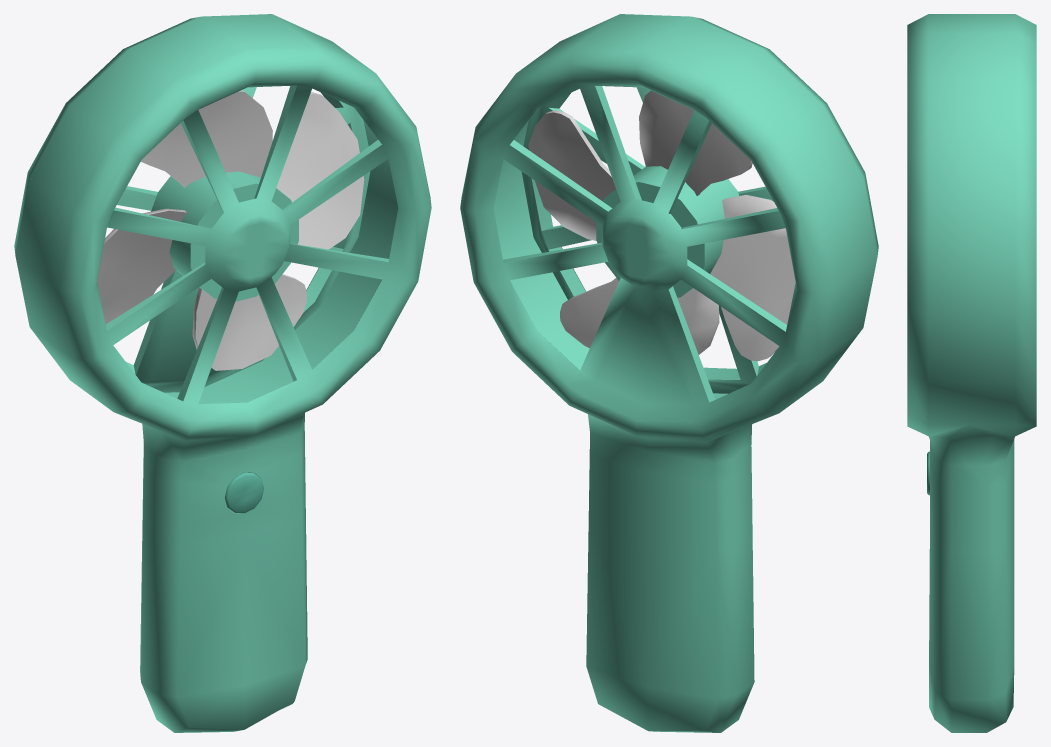
File: fan.fbx
3 renders of one model, left to right at view 1: azimuth 30°, elevation 25°; view 2: azimuth 150°, elevation 25°; view 3: azimuth 270°, elevation 25°, orthographic.
Visible parts, largest first — view 1: fanBody, fanBlades; view 2: fanBody, fanBlades; view 3: fanBody.
Boxes of the visible parts, x1,y1,x2,y2 form: fanBody: [14, 14, 431, 732]; fanBlades: [97, 90, 364, 370]; fanBody: [460, 14, 878, 732]; fanBlades: [528, 90, 795, 361]; fanBody: [907, 14, 1036, 732].
Size of the model in its own units: 100 by 178 by 30.44.
